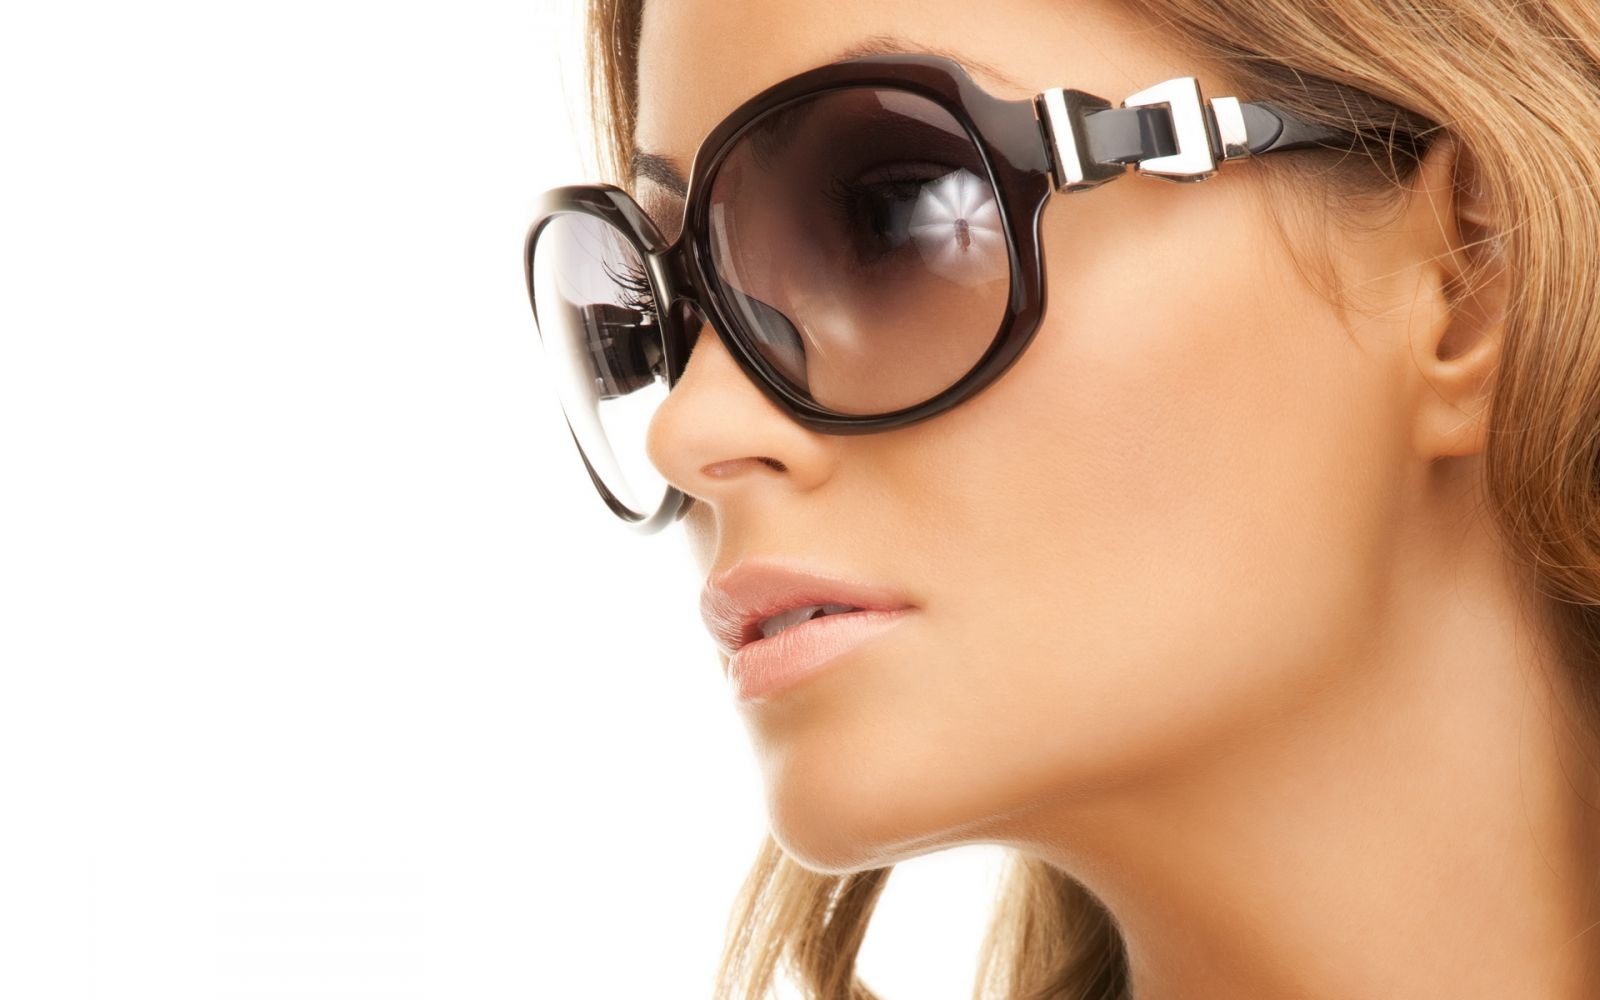glasses: (476, 33, 1085, 552)
